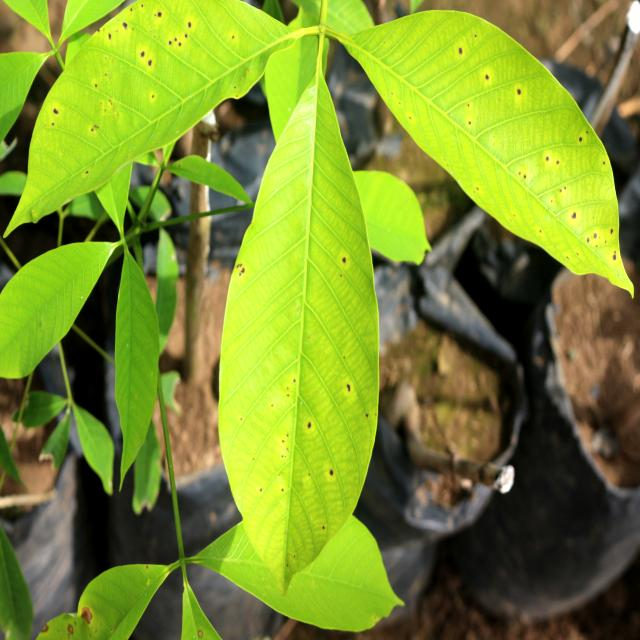Colletotrichum: (123, 22, 127, 30), (342, 257, 346, 264), (572, 212, 576, 219), (148, 60, 152, 66), (518, 88, 521, 95), (158, 12, 162, 17), (330, 470, 333, 476), (459, 48, 462, 54), (188, 22, 191, 28), (308, 422, 310, 428), (486, 76, 489, 80), (141, 52, 144, 56), (109, 34, 111, 38)
